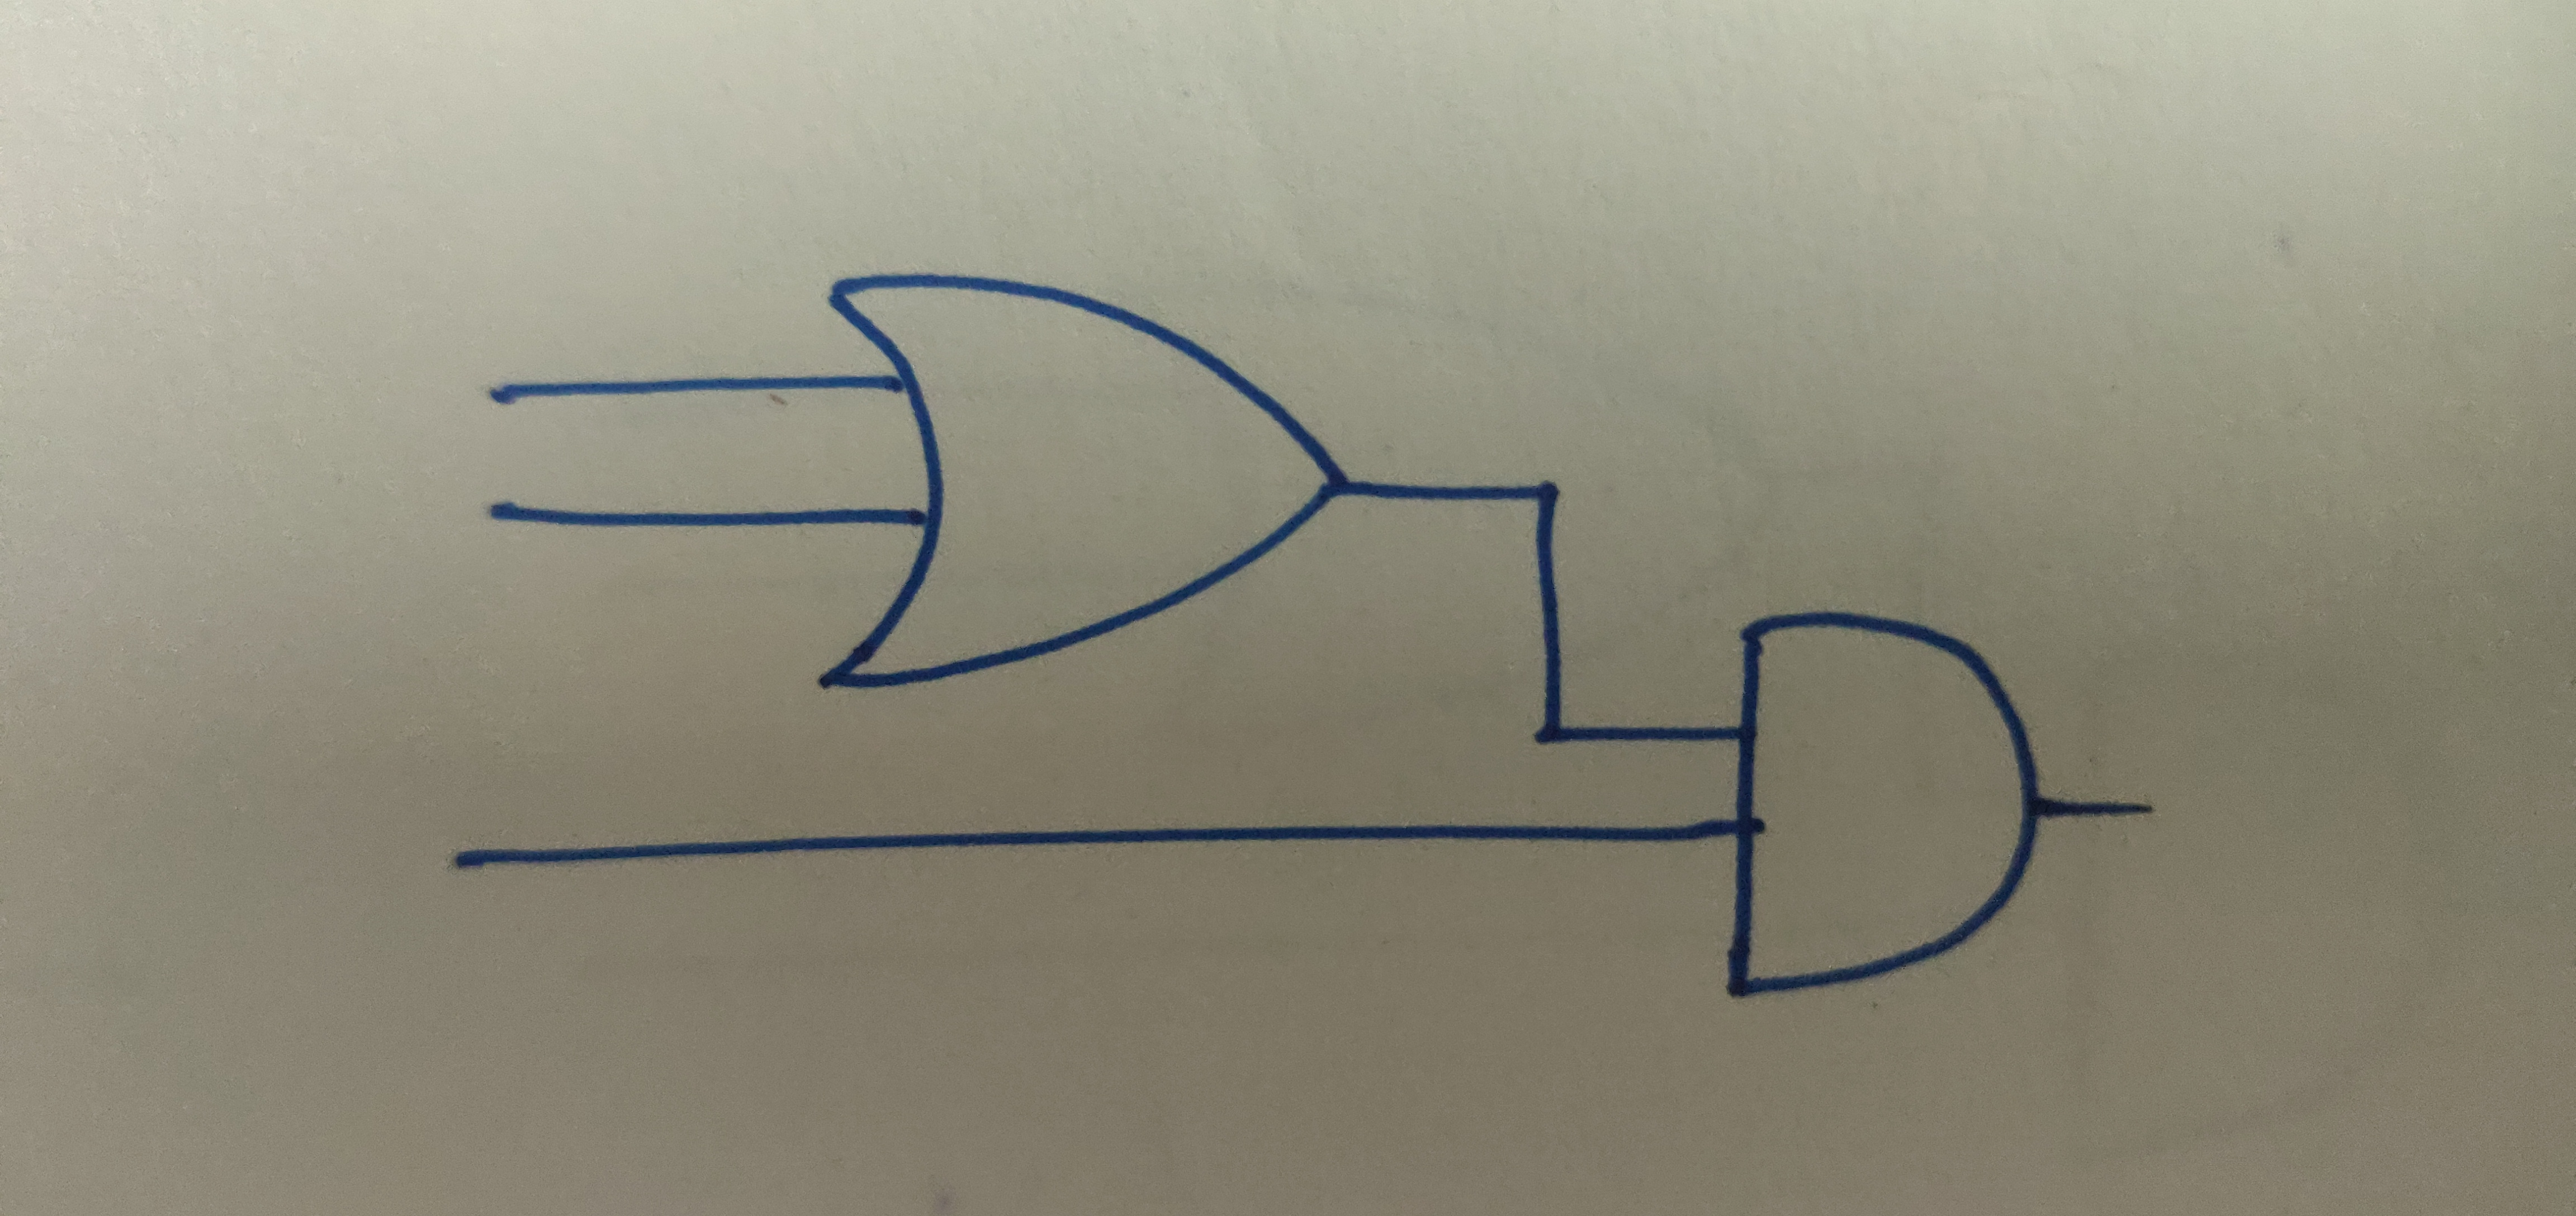and: (1722, 605, 2044, 1016)
or: (825, 269, 1350, 690)
